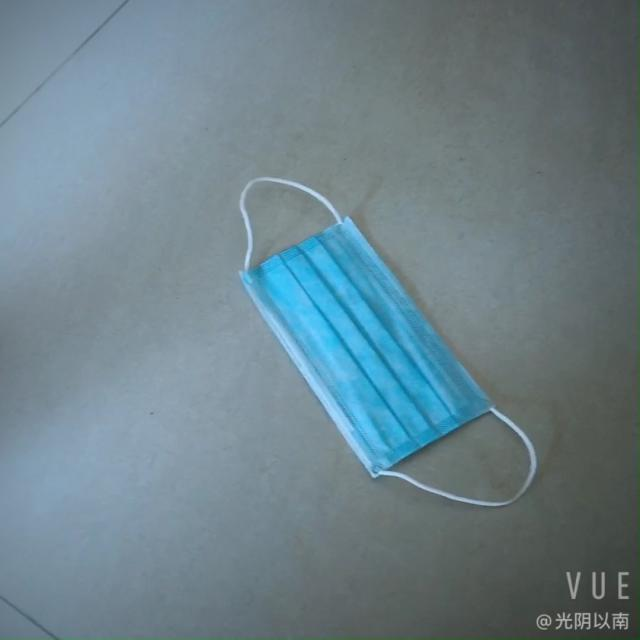non-organic waste: (242, 220, 483, 473)
